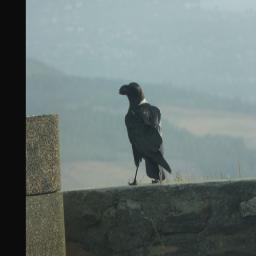Crow: (117, 77, 173, 187)
